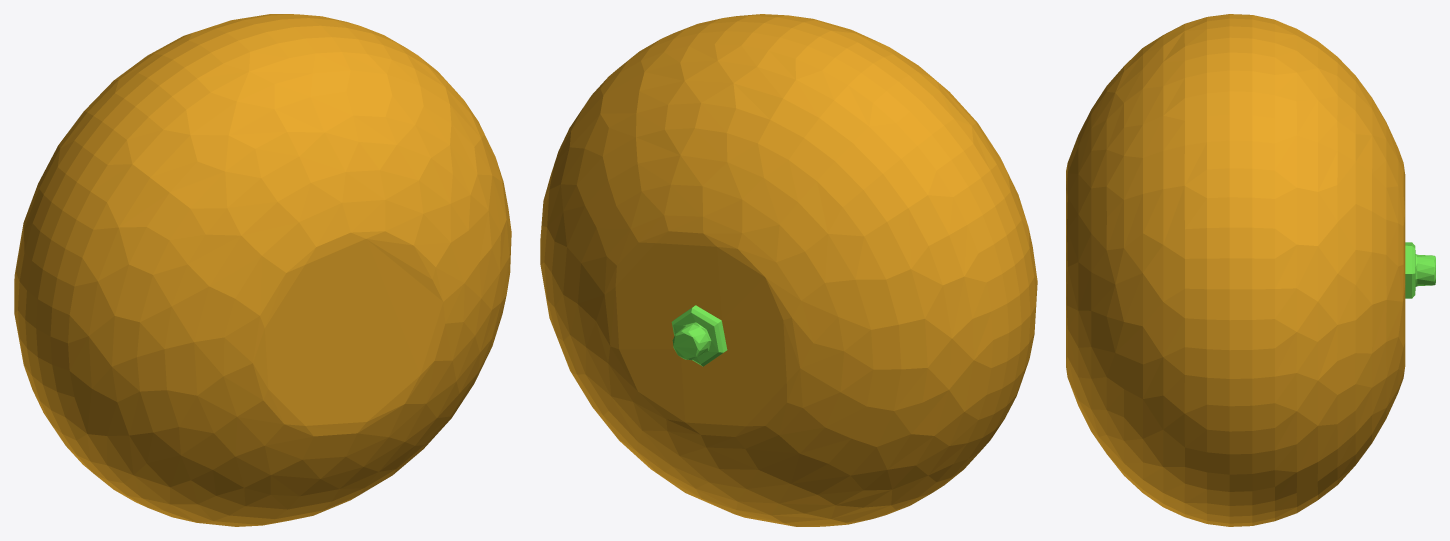
Rendered from org.fbx.
3 views of the same model, side by side, from view 1: azimuth 30°, elevation 25°; view 2: azimuth 150°, elevation 25°; view 3: azimuth 270°, elevation 25° (orthographic). The views are drawn at different scales.
Parts seen in each view (by area): view 1: 零件4; view 2: 零件4; view 3: 零件4.
Part boxes in pixels (x1,y1,x2,y2): 零件4: (14, 14, 511, 526); 零件4: (540, 14, 1037, 526); 零件4: (1066, 14, 1435, 526).
Size of the model in its own units: 4997 by 4997 by 3600.
